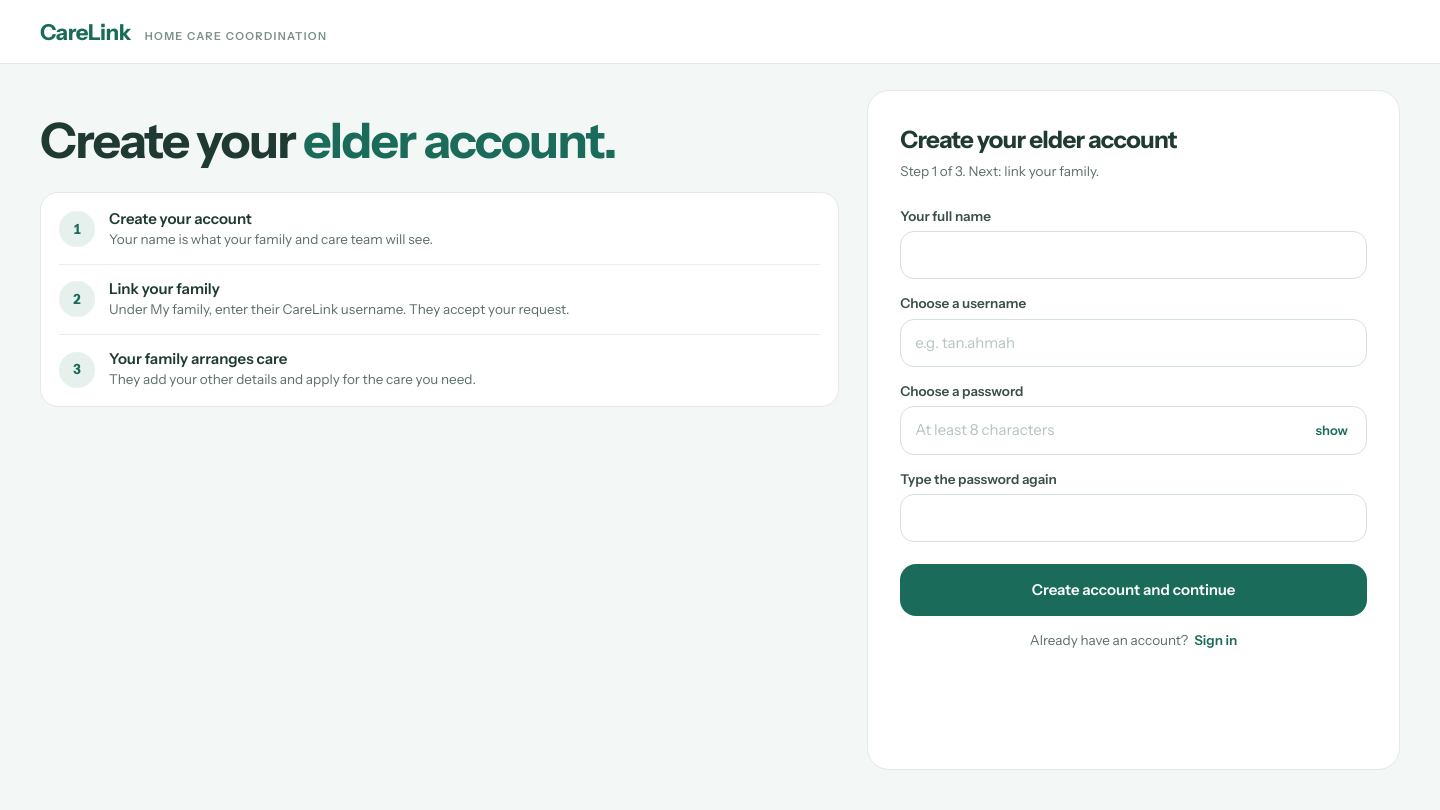
Scenario: Elder self-registration › blocks mismatched passwords before making requests
The image size is (1440, 810).
Type "  Tan Ah Mah " into the field labelled "Your full name". click: point(1134, 255)
box: [900,231,1367,279]
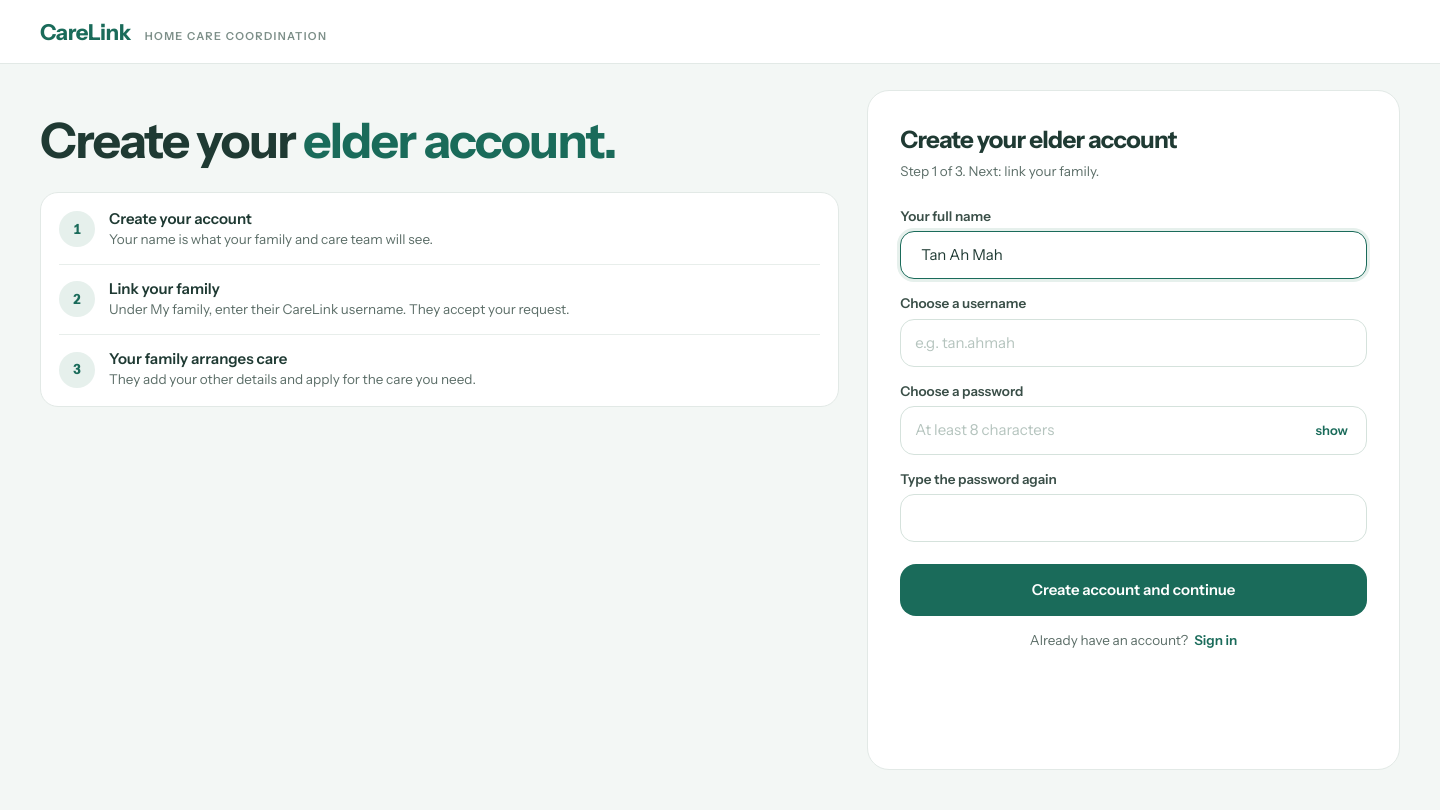
Type "elder.new" into the field labelled "Choose a username". click: point(1134, 343)
box: [900,318,1367,367]
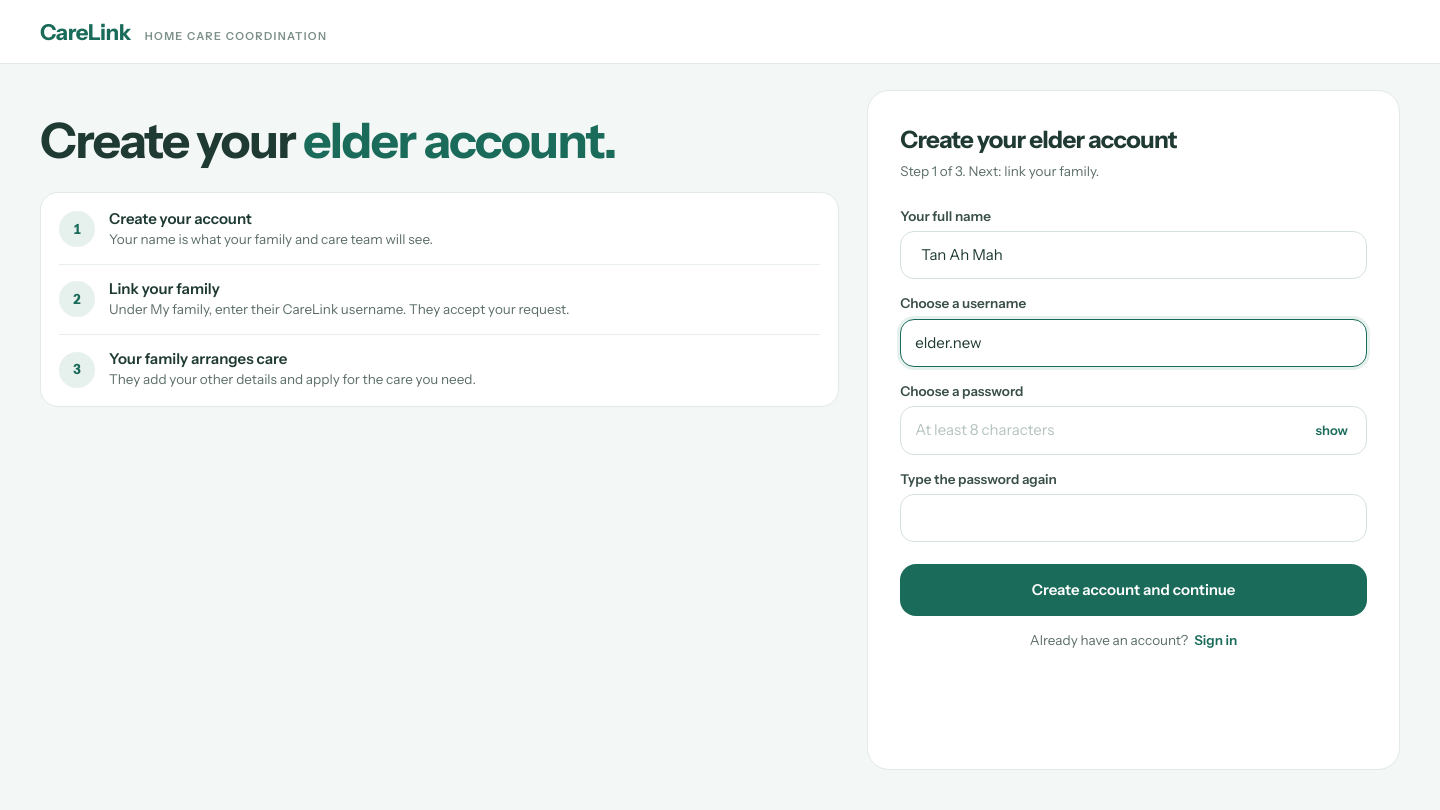
Type "password123" into the password field labelled "Choose a password". click: point(1105, 430)
box: [915,407,1296,454]
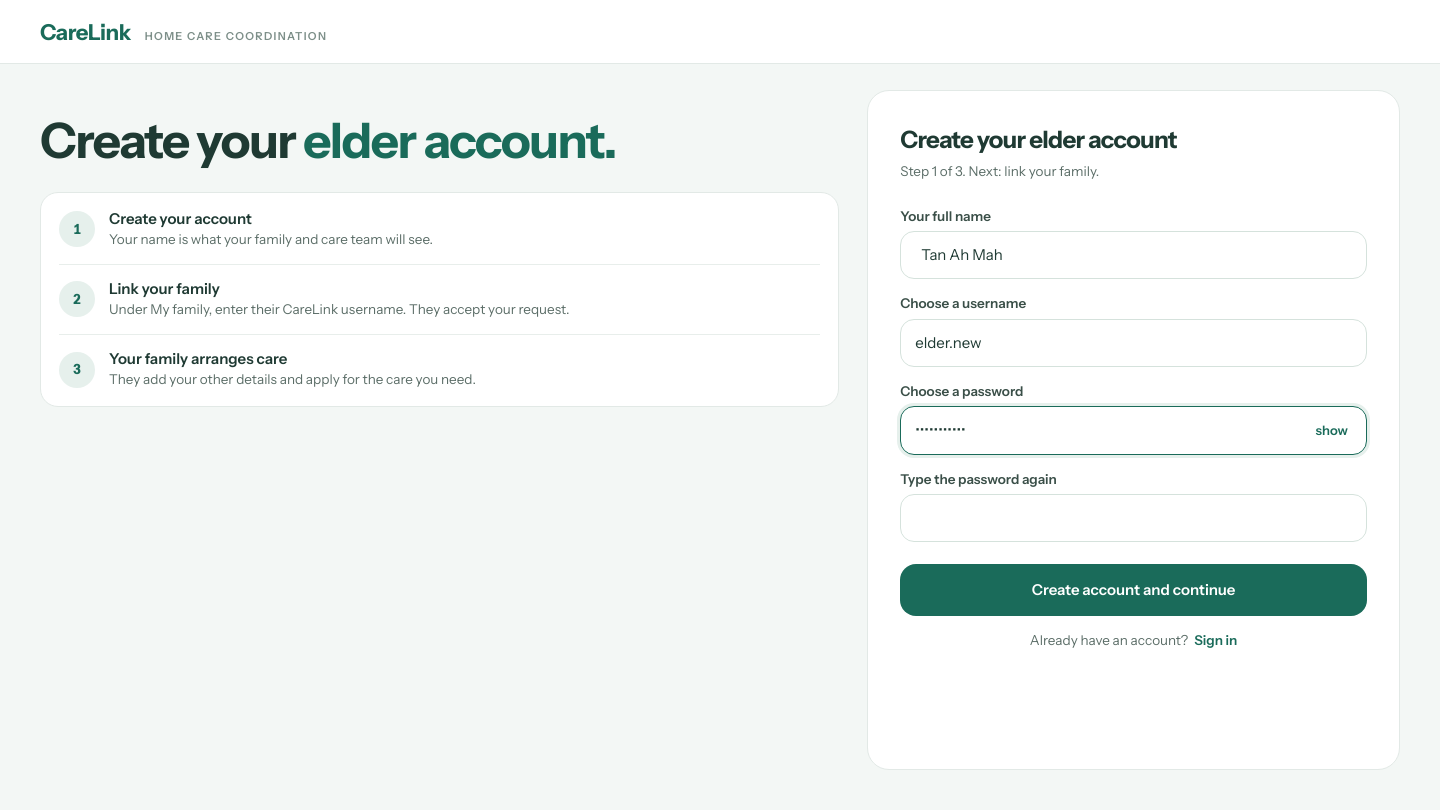
Type "different123" into the password field labelled "Type the password again". click: point(1134, 518)
box: [900,494,1367,542]
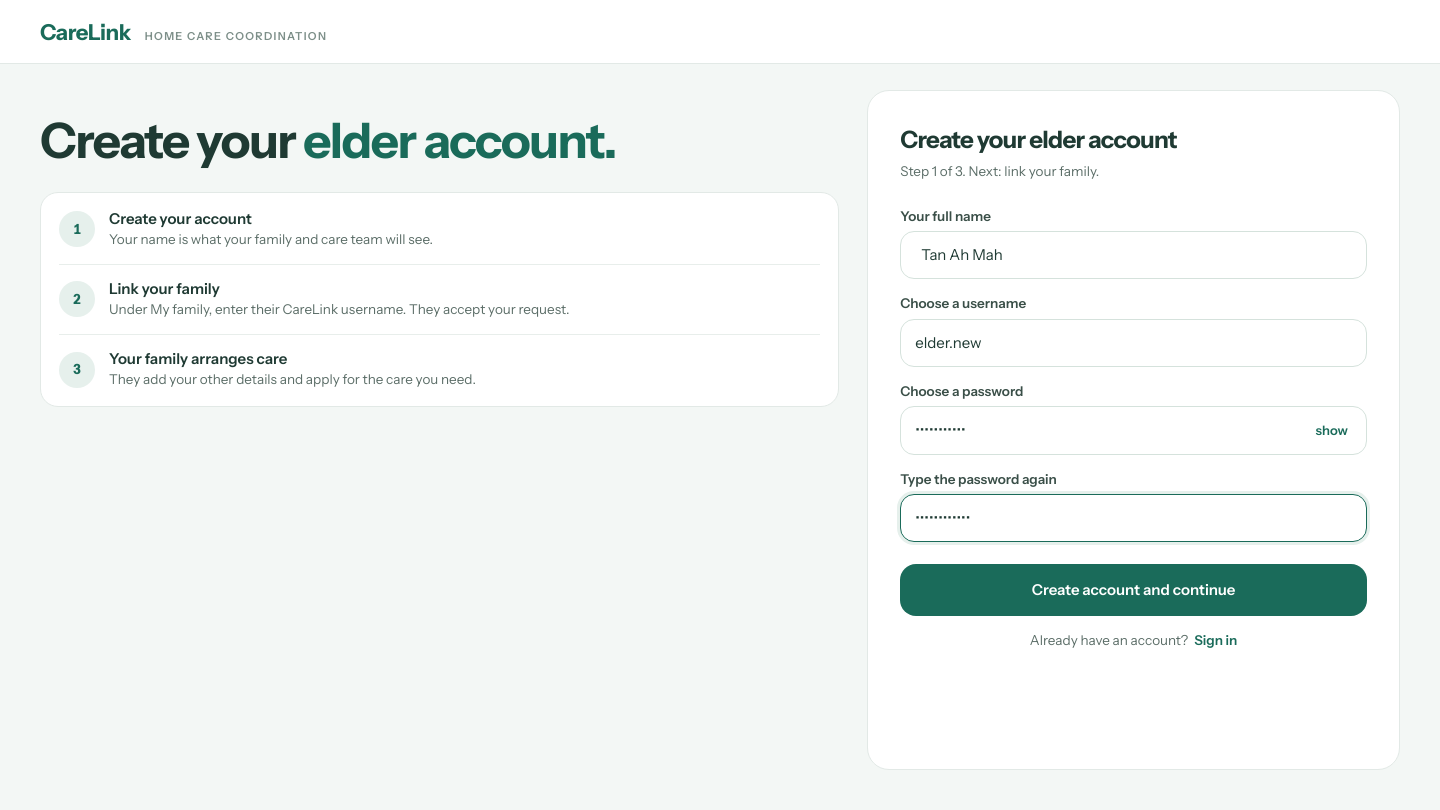
Click the button "Create account and continue". click: point(1134, 590)
box: [900,564,1367,616]
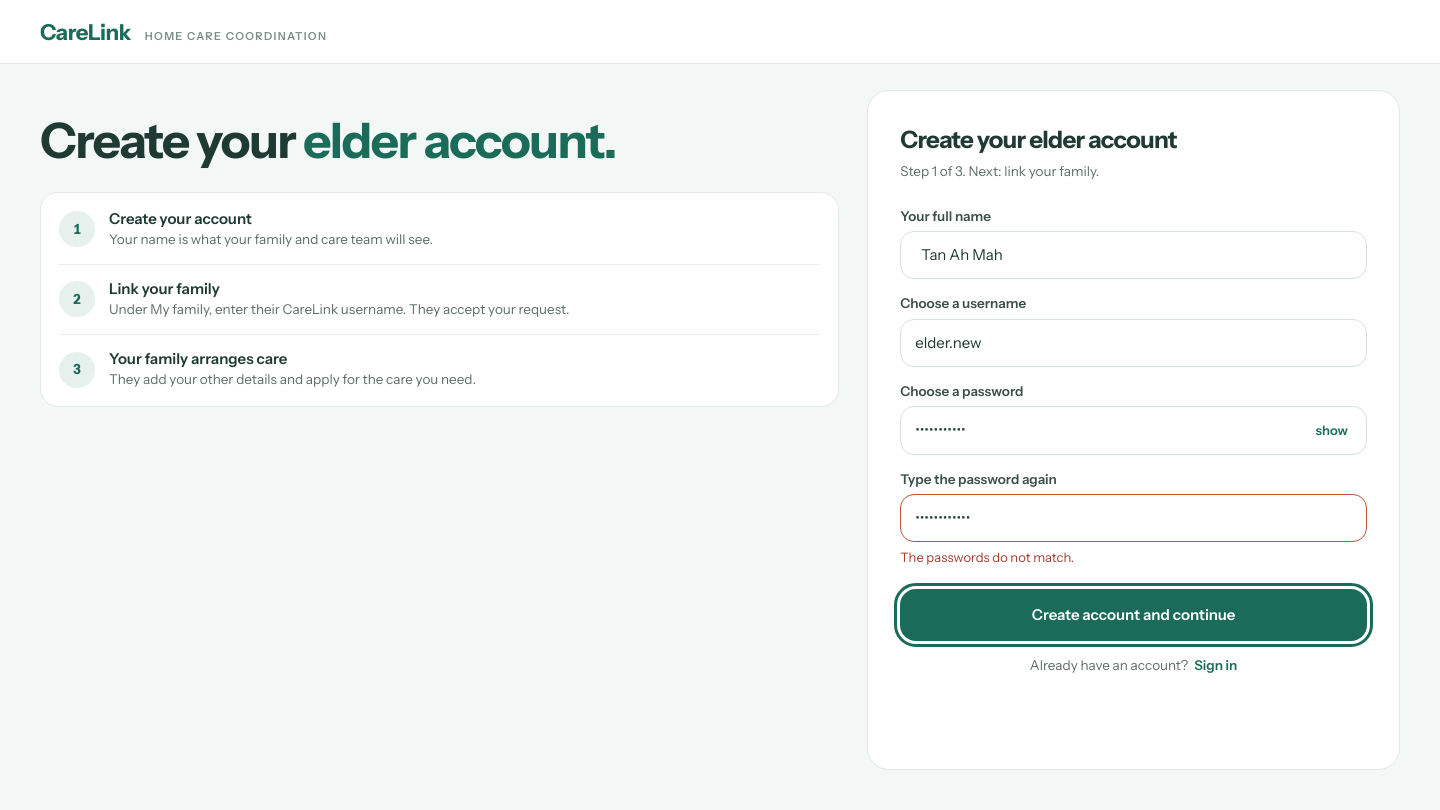
Expected: the text "The passwords do not match." is shown, [900,549,1074,565]
